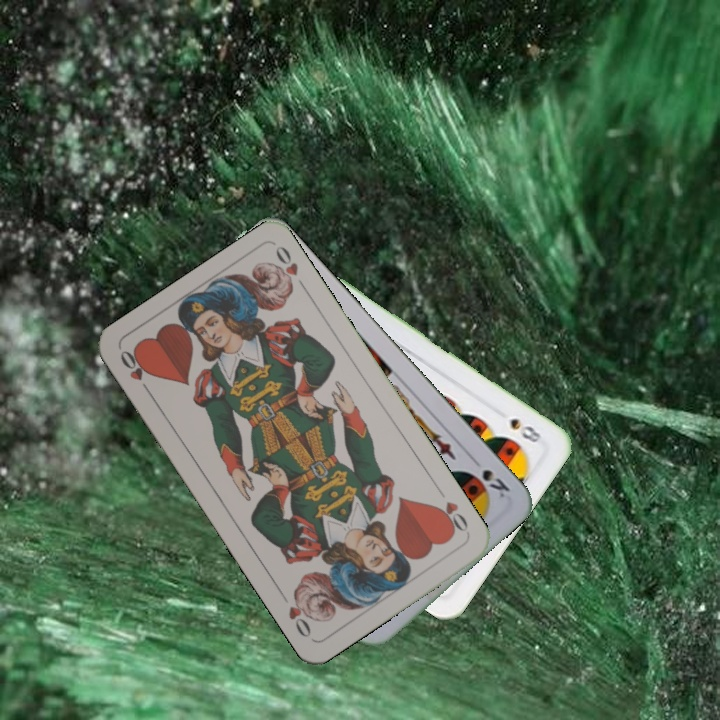HO: (431, 484, 471, 537), (115, 346, 155, 399)
S8: (506, 414, 544, 446)
SK: (478, 465, 513, 501)
